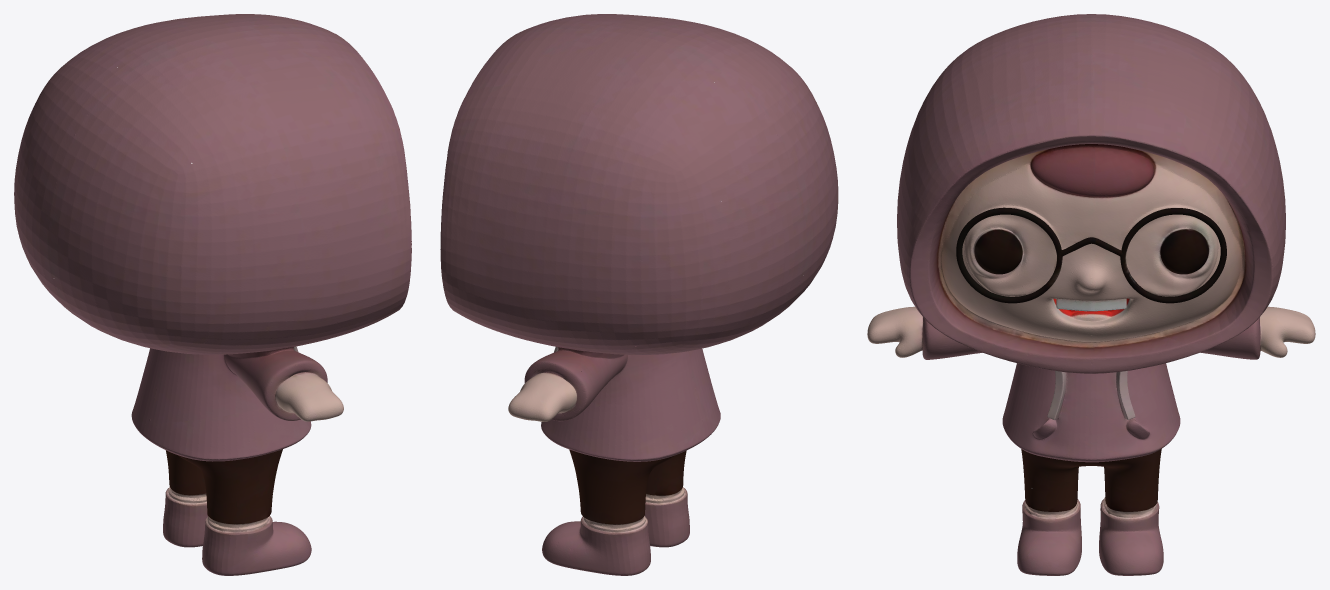
File: char_Tpose_opt.glb
3 renders of one model, left to right at view 1: azimuth 30°, elevation 25°; view 2: azimuth 150°, elevation 25°; view 3: azimuth 270°, elevation 25°, orthographic.
Visible parts, largest first — view 1: tripo_node_0c1a40db-30fb-4d16-a082-6ec1be961e6f; view 2: tripo_node_0c1a40db-30fb-4d16-a082-6ec1be961e6f; view 3: tripo_node_0c1a40db-30fb-4d16-a082-6ec1be961e6f.
Boxes of the visible parts, <box> form: tripo_node_0c1a40db-30fb-4d16-a082-6ec1be961e6f: <box>14,14,411,575</box>; tripo_node_0c1a40db-30fb-4d16-a082-6ec1be961e6f: <box>440,14,838,575</box>; tripo_node_0c1a40db-30fb-4d16-a082-6ec1be961e6f: <box>867,14,1315,575</box>.
Bounding box in the file's own units: 0.6333 × 1 × 0.7995.
1 material, 1 textured.
